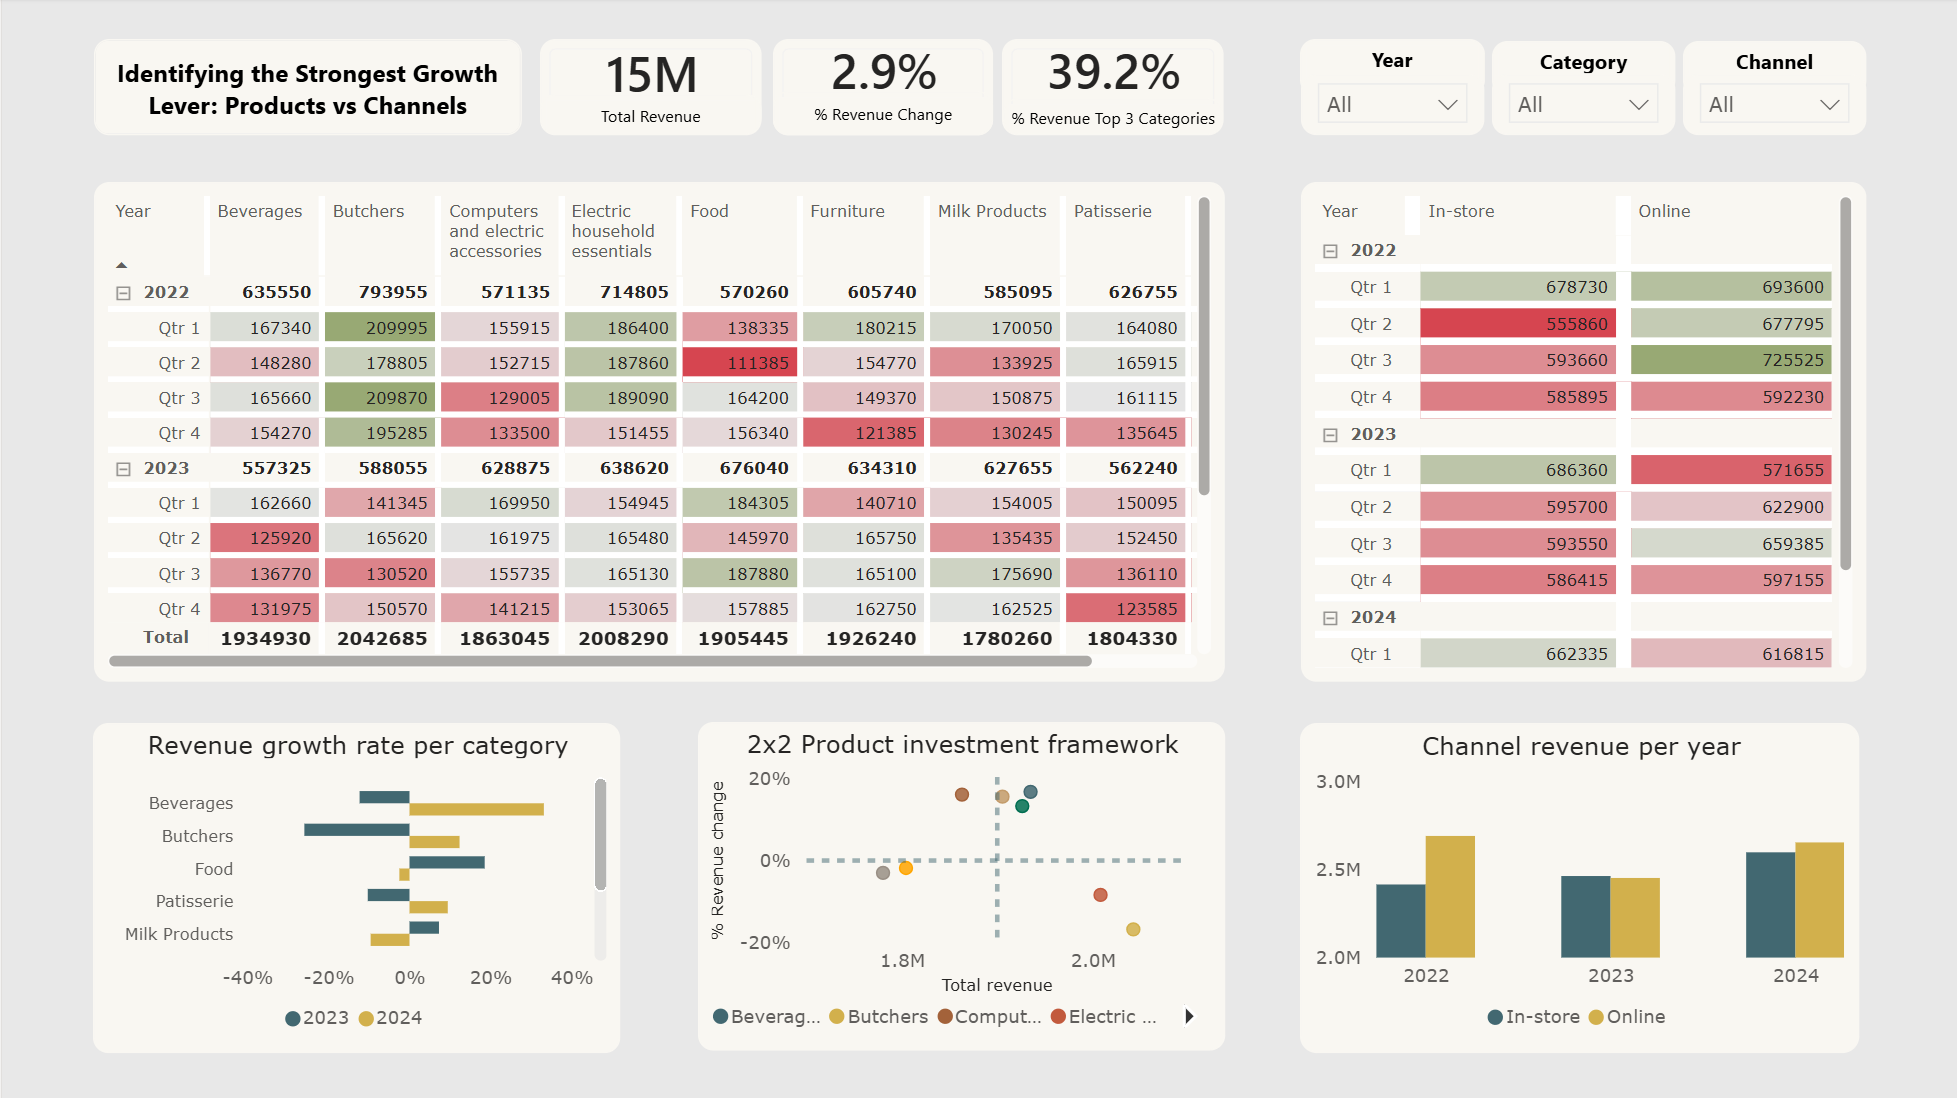

The dashboard page shown, as its layout file describes it:
{"tool":"powerbi","page":{"name":"Retail sales analysis","canvas":[1280,720],"ordinal":0},"visuals":[{"type":"pivotTable","fields":{"Values":["Sum(retail_store_sales_cleaned.Total Spent)"],"Rows":["retail_store_sales_cleaned.Transaction month.Variation.Date Hierarchy.Year","retail_store_sales_cleaned.Transaction month.Variation.Date Hierarchy.Quarter"],"Columns":["retail_store_sales_cleaned.Category"]},"box":[60,120.1,740,326.7],"z":0},{"type":"pivotTable","fields":{"Values":["Sum(retail_store_sales_cleaned.Total Spent)"],"Rows":["retail_store_sales_cleaned.Transaction month.Variation.Date Hierarchy.Year","retail_store_sales_cleaned.Transaction month.Variation.Date Hierarchy.Quarter"],"Columns":["retail_store_sales_cleaned.Location"]},"box":[850,120.1,370,326.7],"z":1000},{"type":"clusteredBarChart","title":"Revenue growth rate per category","fields":{"Category":["retail_store_sales_cleaned.Category"],"Y":["retail_store_sales_cleaned.Total Spent YoY Growth %"],"Series":["Date.Year"]},"box":[59.7,474.3,345.2,215.5],"z":2000},{"type":"clusteredColumnChart","title":"Channel revenue per year","fields":{"Category":["Date.Year"],"Y":["Sum(retail_store_sales_cleaned.Total Spent)"],"Series":["retail_store_sales_cleaned.Location"]},"box":[849.7,474.3,366.5,215.5],"z":3000},{"type":"shape","title":"Titel komt hier","box":[60,26.6,279.7,63.1],"z":4000},{"type":"shape","box":[1100,28,120,36],"z":5000},{"type":"shape","box":[849.4,27,120.9,36.6],"z":6000},{"type":"shape","box":[975,28,120,36],"z":7000},{"type":"slicer","title":"Channel","fields":{"Values":["retail_store_sales_cleaned.Location"]},"box":[1100,50,120,40],"z":8000},{"type":"slicer","title":"Category","fields":{"Values":["retail_store_sales_cleaned.Category"]},"box":[975,50,120,40],"z":9000},{"type":"slicer","title":"Year","fields":{"Values":["Date.Year"]},"box":[850,50,120,40],"z":10000},{"type":"cardVisual","title":"Total Revenue","fields":{"Data":["Sum(retail_store_sales_cleaned.Total Spent)"]},"box":[351.9,26.6,145.2,60.8],"z":11000},{"type":"shape","box":[351.9,63.1,145.2,26.6],"z":12000},{"type":"cardVisual","fields":{"Data":["retail_store_sales_cleaned.Total Growth %"]},"box":[504.7,26.6,144.4,63.1],"z":13000},{"type":"cardVisual","fields":{"Data":["retail_store_sales_cleaned.Revenue Concentration %"]},"box":[654.4,26.6,145.2,63.1],"z":14000},{"type":"shape","box":[504.7,60.8,144.4,28.9],"z":15000},{"type":"shape","box":[655.2,65.4,144.4,24.3],"z":16000},{"type":"scatterChart","title":"2x2 Product investment framework","fields":{"X":["Sum(retail_store_sales_cleaned.Total Spent)"],"Y":["retail_store_sales_cleaned.Total Growth %"],"Category":["retail_store_sales_cleaned.Category"],"Series":["retail_store_sales_cleaned.Category"]},"box":[455.3,474,344.7,215.3],"z":17000}]}

Visuals, with their boxes in screenshot pixels (x1, y1, x2, y2), scaled from the page's 1280x720 canvas onto the 1957x1098 screenshot:
pivotTable - Sum(retail_store_sales_cleaned.Total Spent) x retail_store_sales_cleaned.Transaction month.Variation.Date Hierarchy.Year: {"left": 92, "top": 183, "right": 1223, "bottom": 681}
pivotTable - Sum(retail_store_sales_cleaned.Total Spent) x retail_store_sales_cleaned.Transaction month.Variation.Date Hierarchy.Year: {"left": 1300, "top": 183, "right": 1865, "bottom": 681}
"Revenue growth rate per category" clusteredBarChart: {"left": 91, "top": 723, "right": 619, "bottom": 1052}
"Channel revenue per year" clusteredColumnChart: {"left": 1299, "top": 723, "right": 1859, "bottom": 1052}
"Titel komt hier" shape: {"left": 92, "top": 41, "right": 519, "bottom": 137}
shape: {"left": 1682, "top": 43, "right": 1865, "bottom": 98}
shape: {"left": 1299, "top": 41, "right": 1483, "bottom": 97}
shape: {"left": 1491, "top": 43, "right": 1674, "bottom": 98}
"Channel" slicer: {"left": 1682, "top": 76, "right": 1865, "bottom": 137}
"Category" slicer: {"left": 1491, "top": 76, "right": 1674, "bottom": 137}
"Year" slicer: {"left": 1300, "top": 76, "right": 1483, "bottom": 137}
"Total Revenue" cardVisual: {"left": 538, "top": 41, "right": 760, "bottom": 133}
shape: {"left": 538, "top": 96, "right": 760, "bottom": 137}
cardVisual - retail_store_sales_cleaned.Total Growth %: {"left": 772, "top": 41, "right": 992, "bottom": 137}
cardVisual - retail_store_sales_cleaned.Revenue Concentration %: {"left": 1001, "top": 41, "right": 1223, "bottom": 137}
shape: {"left": 772, "top": 93, "right": 992, "bottom": 137}
shape: {"left": 1002, "top": 100, "right": 1223, "bottom": 137}
"2x2 Product investment framework" scatterChart: {"left": 696, "top": 723, "right": 1223, "bottom": 1051}
